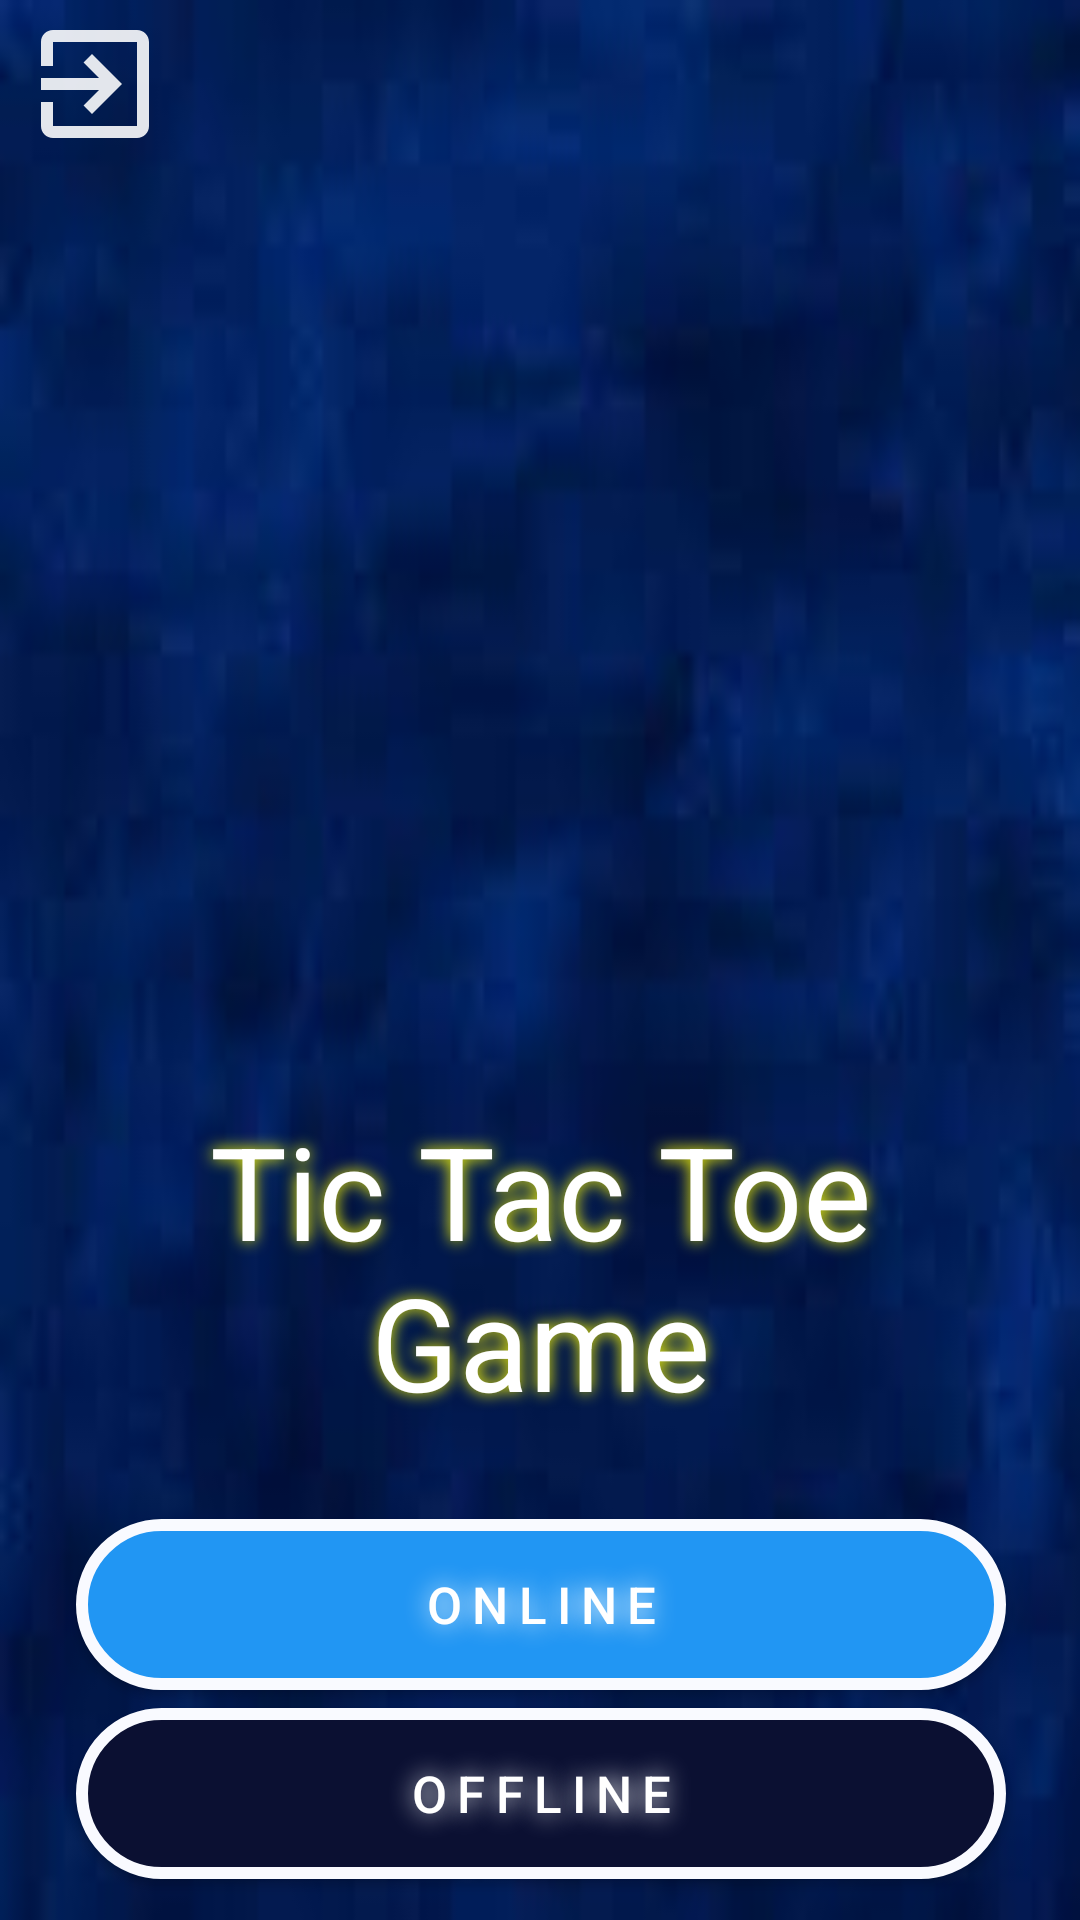

Icons on this 1080 × 1920 Android screen, each with its box as (x1, y1, x2, y2):
exit btn: (41, 30, 149, 138)
